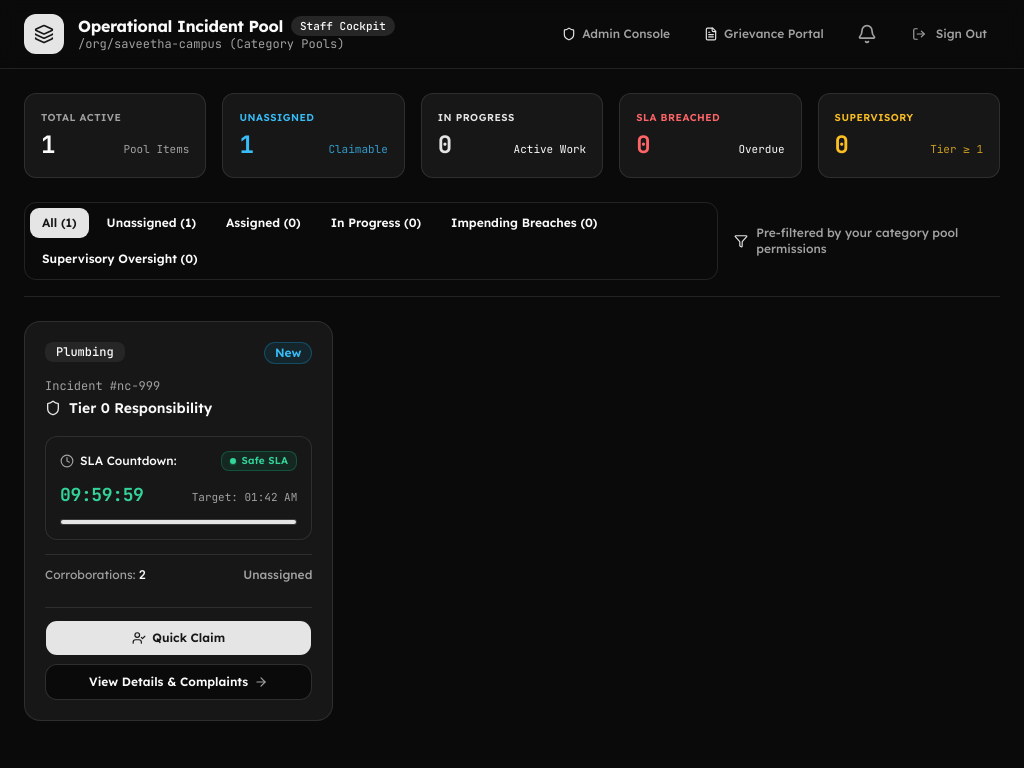
Test case: Frontend Client App › allows staff to view assigned category pool, inspect complaints, claim incident, and transition to In Progress
Expected: the heading "Operational Incident Pool" is shown, top-left (78, 16), bottom-right (283, 36)
Expected: the text "Plumbing" is shown, top-left (45, 342), bottom-right (125, 362)
# Click "View Details & Complaints"
Click the button "View Details & Complaints": (179,682) top-left (45, 664), bottom-right (312, 700)
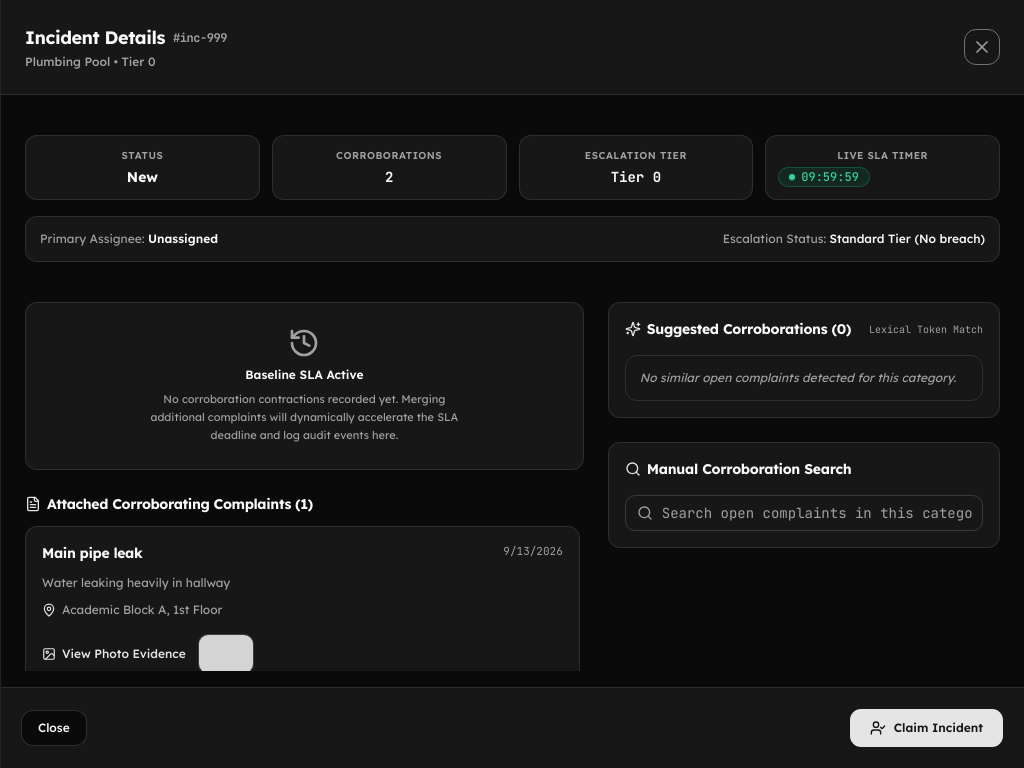
Result: the text "Attached Corroborating Complaints (1)" is shown at top-left (47, 494), bottom-right (313, 514)
Result: the heading "Main pipe leak" is shown at top-left (42, 543), bottom-right (142, 563)
Result: the text "Academic Block A, 1st Floor" is shown at top-left (62, 602), bottom-right (222, 618)
# Claim the incident
Click the button "Claim Incident": (926,728) top-left (849, 708), bottom-right (1004, 748)
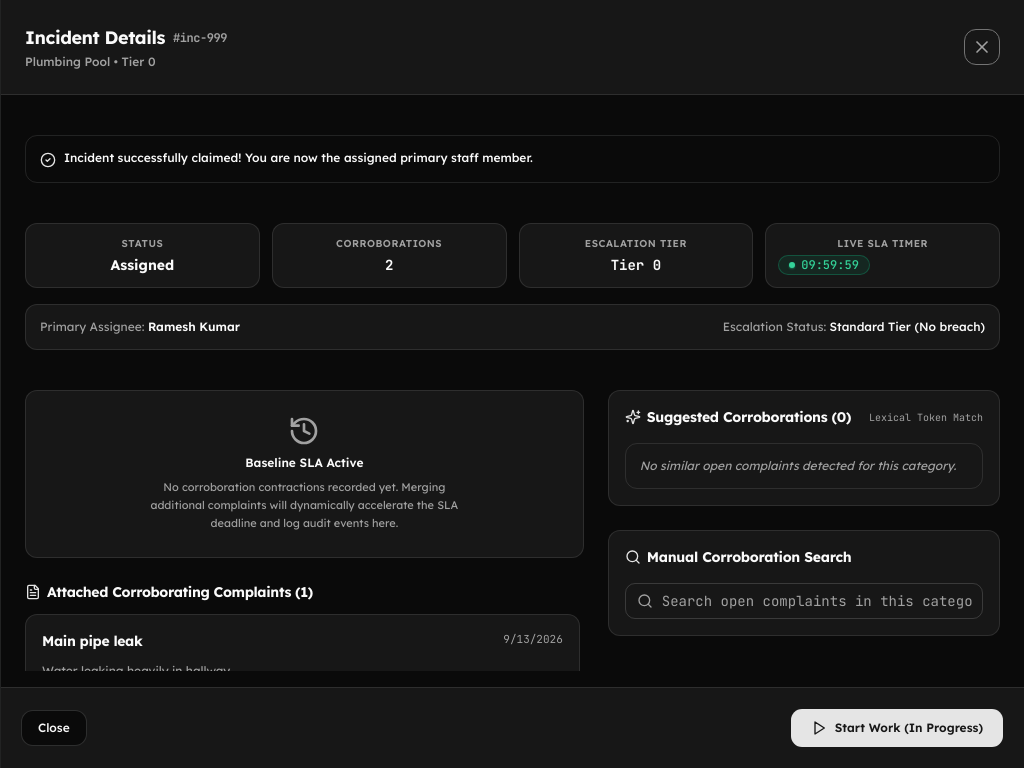
Result: the button "Start Work (In Progress)" is shown
# Start work
Click the button "Start Work (In Progress)": (897,728) top-left (790, 708), bottom-right (1004, 748)
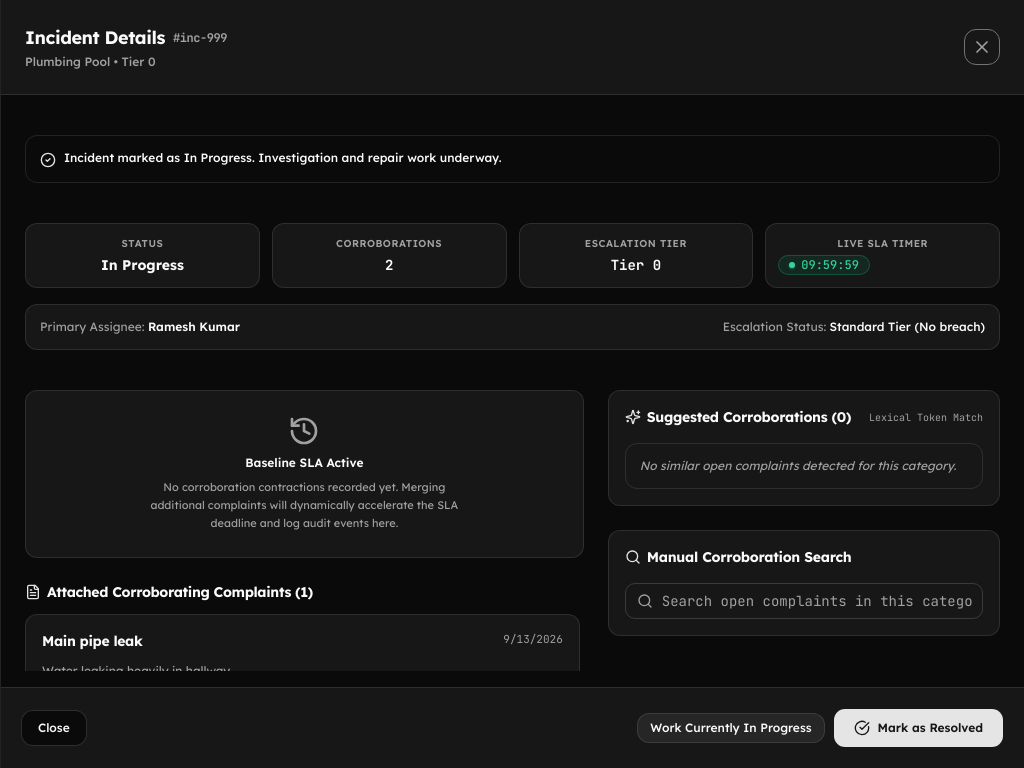
Result: the text "Work Currently In Progress" is shown at top-left (637, 713), bottom-right (824, 743)
